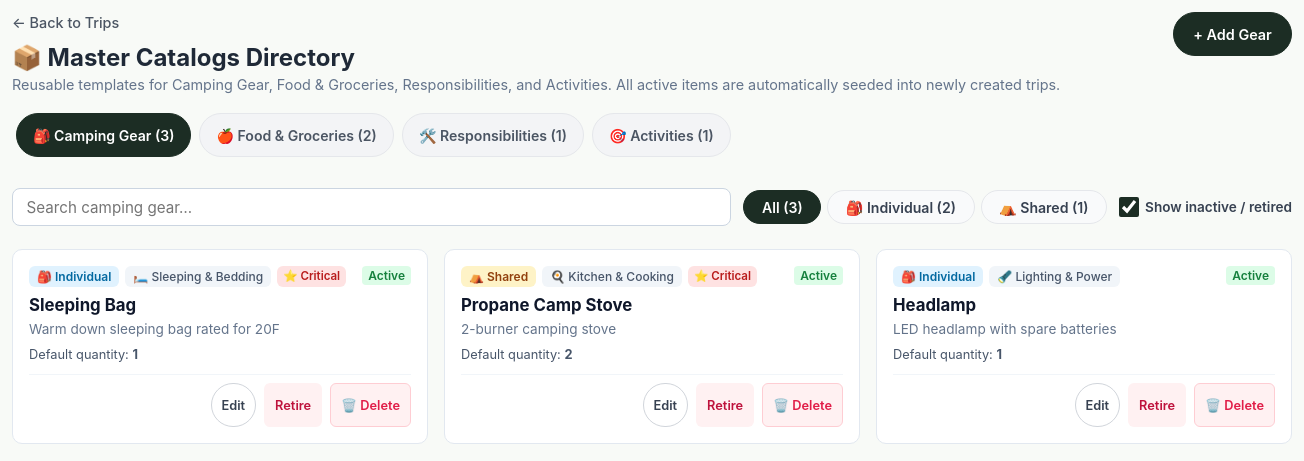
Scenario: MasterCatalogPage › filters visible items under Camping Gear using filter pills [All], [Individual], [Shared]
Expected: the heading "Sleeping Bag" is shown, [29,295,136,315]
Expected: the heading "Propane Camp Stove" is shown, [461,295,632,315]
Note: Click [Shared] pill
Click the button "⛺ Shared (1)": (1044, 207) [980,190,1107,224]
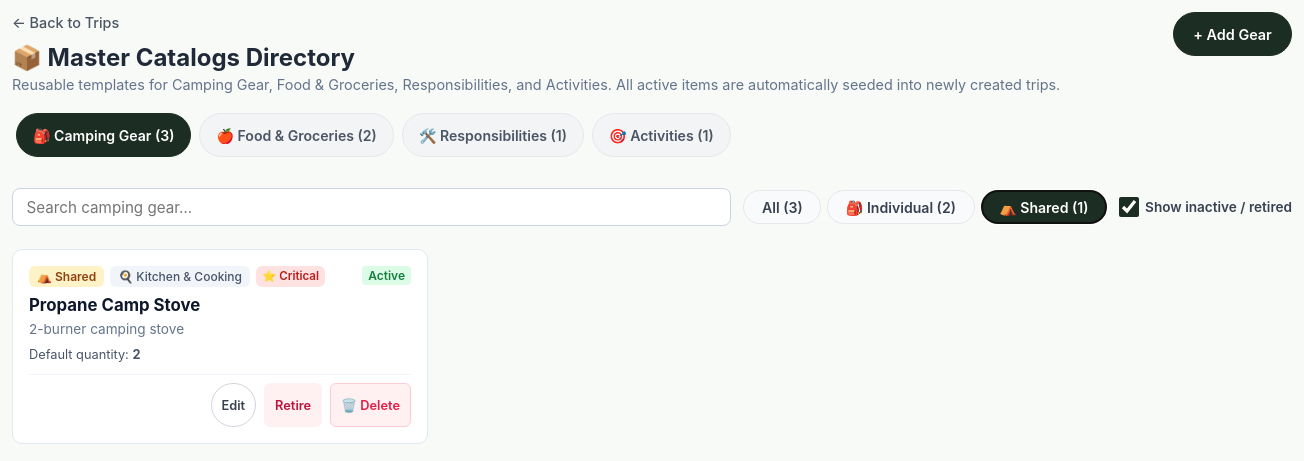
Expected: the heading "Propane Camp Stove" is shown, [29,295,200,315]
Result: the heading "Sleeping Bag" is gone
Result: the heading "Headlamp" is gone
Note: Click [Individual] pill
Click the button "🎒 Individual (2)": (901, 207) [827,190,975,224]
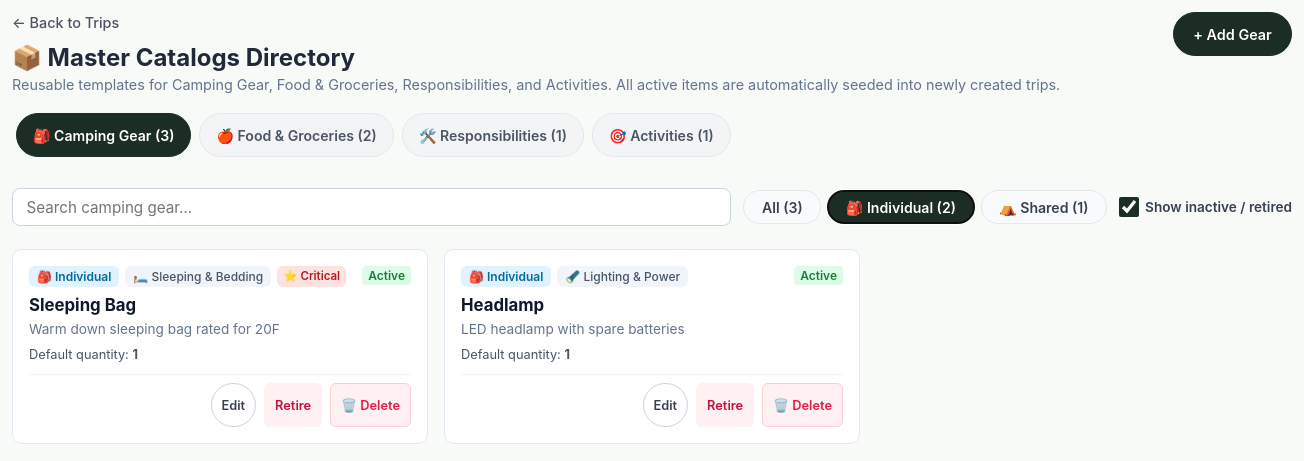
Result: the heading "Sleeping Bag" is shown at [29,295,136,315]
Result: the heading "Propane Camp Stove" is gone
Result: the heading "Headlamp" is shown at [461,295,544,315]
Note: Click [All] pill
Click the button "All (3)": (782, 207) [743,190,821,224]
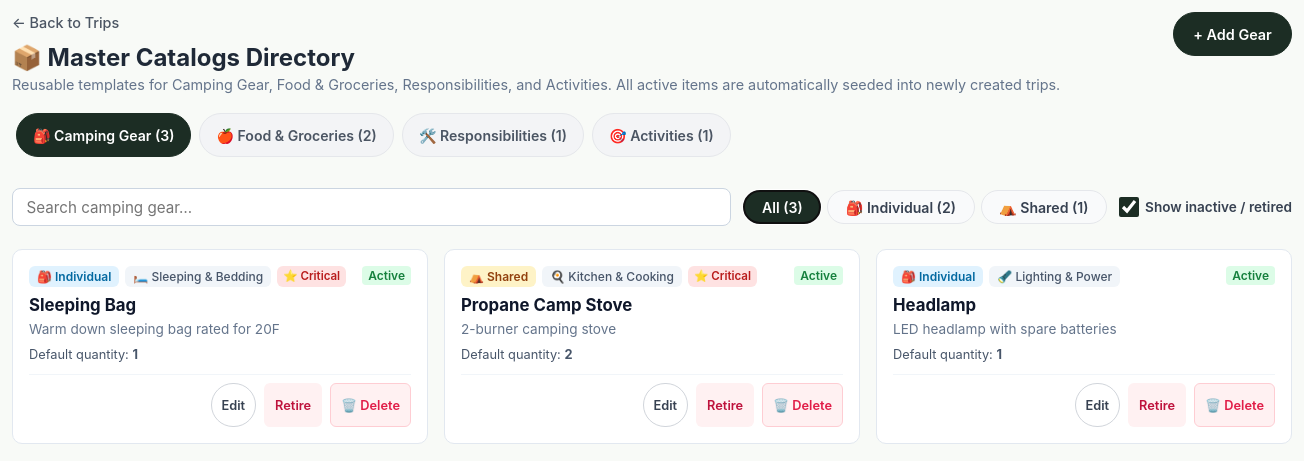
Result: the heading "Sleeping Bag" is shown at [29,295,136,315]
Result: the heading "Headlamp" is shown at [893,295,976,315]
Result: the heading "Propane Camp Stove" is shown at [461,295,632,315]
